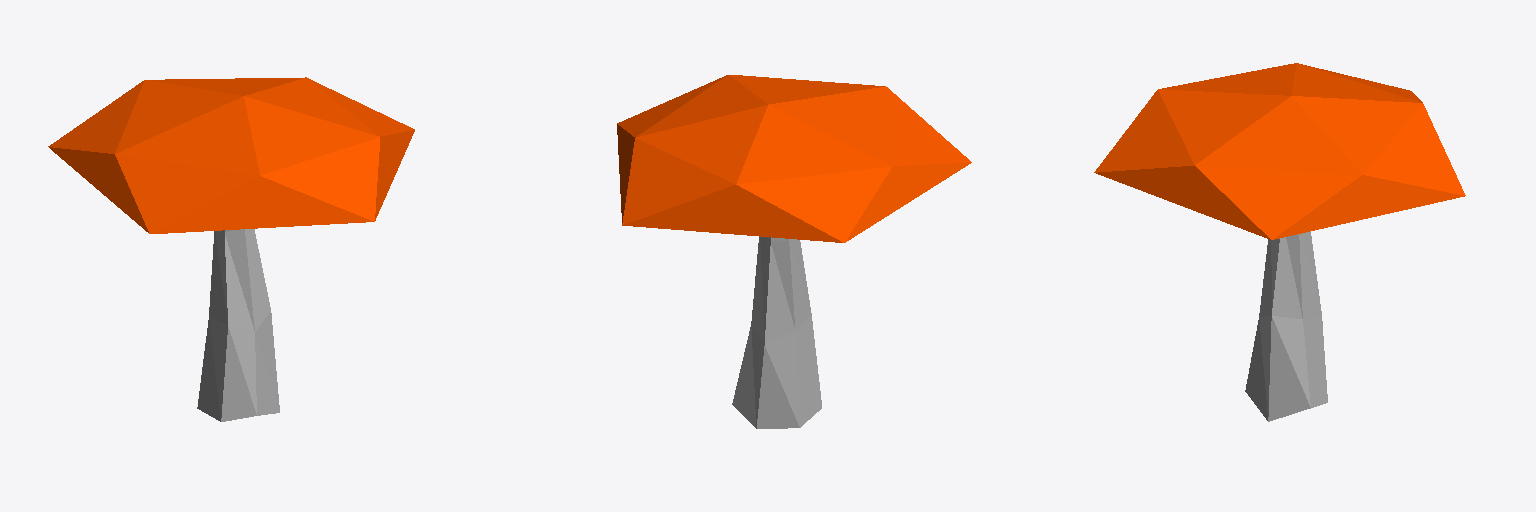
File: mushroom_1.obj
The picture shows the model from 3 angles: view 1: azimuth 30°, elevation 25°; view 2: azimuth 150°, elevation 25°; view 3: azimuth 270°, elevation 25°; orthographic projection.
Visible parts, largest first — view 1: mushroom_1; view 2: mushroom_1; view 3: mushroom_1.
Part boxes in pixels (left/top/right/bottom): mushroom_1: left=48, top=77, right=414, bottom=421; mushroom_1: left=617, top=75, right=971, bottom=428; mushroom_1: left=1094, top=63, right=1465, bottom=421.
Bounding box in the file's own units: 0.4828 × 0.4668 × 0.5009.